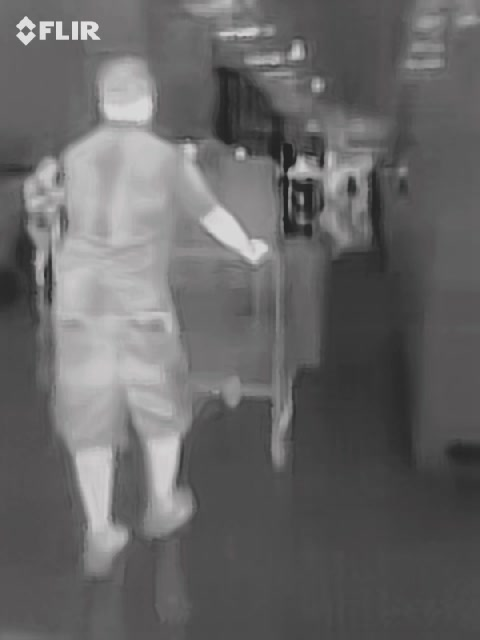head: (94, 53, 158, 126)
